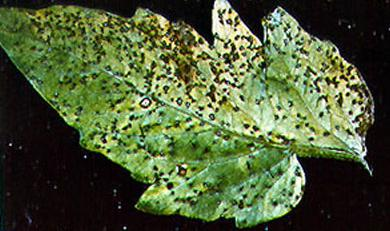Tomato Septoria leaf spot: (3, 1, 386, 225)
